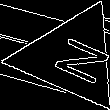N_NW: (36, 28, 105, 87)
